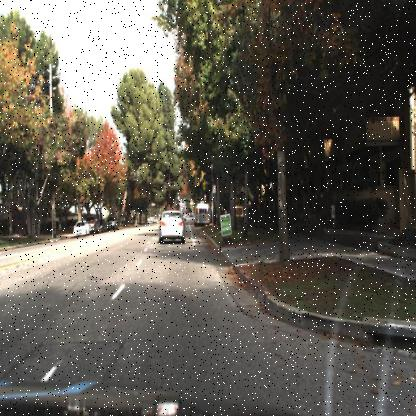car: (152, 203, 190, 254), (70, 218, 91, 238), (87, 213, 101, 236), (105, 214, 120, 233)
truck: (192, 196, 214, 237)
